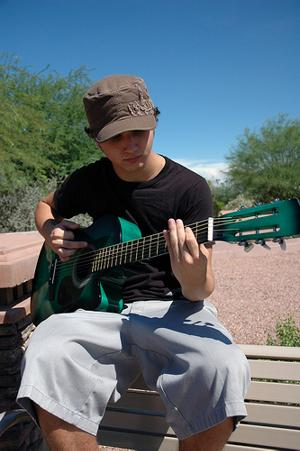person: (17, 74, 250, 450)
